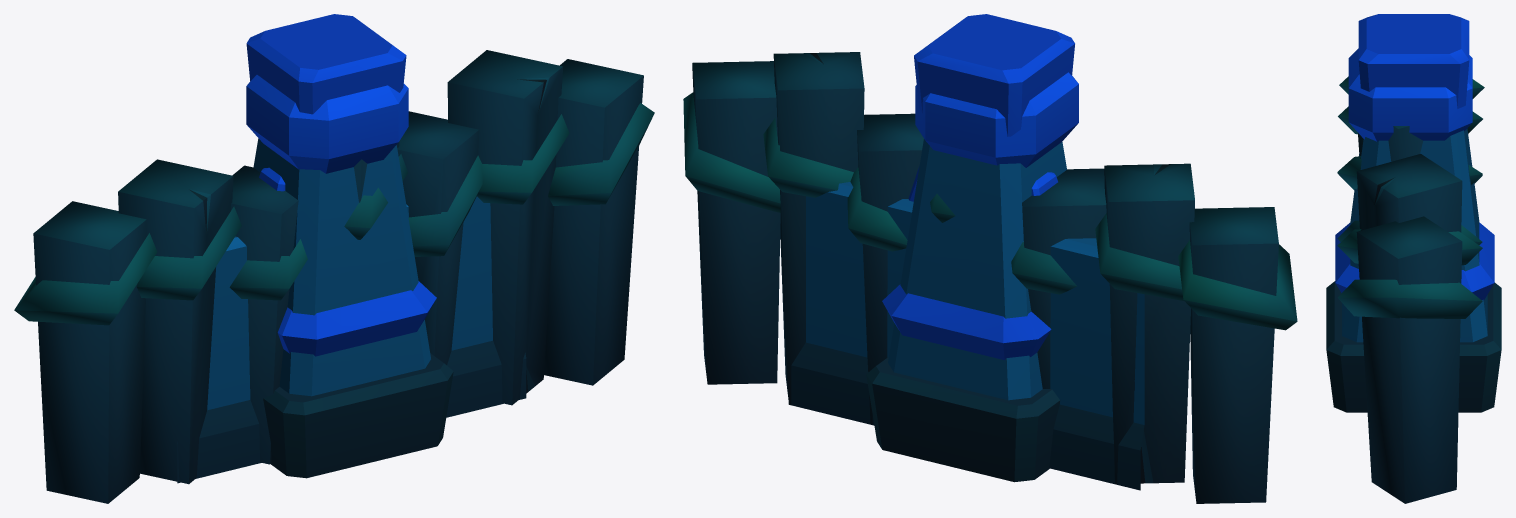
File: Walls.fbx
3 views of the same model, side by side, from view 1: azimuth 30°, elevation 25°; view 2: azimuth 150°, elevation 25°; view 3: azimuth 270°, elevation 25° (orthographic). The views are drawn at different scales.
Visible parts, largest first — view 1: Wall_1_W, Wall_1_Pillar, Wall_2_W, Wall_2_Pillar; view 2: Wall_1_W, Wall_1_Pillar, Wall_2_W, Wall_2_Pillar; view 3: Wall_1_W, Wall_1_Pillar, Wall_2_Pillar.
Boxes of the visible parts, x1=… form: Wall_1_W: x1=14, y1=50, x2=654, y2=503; Wall_1_Pillar: x1=246, y1=14, x2=453, y2=478; Wall_2_W: x1=177, y1=167, x2=526, y2=483; Wall_2_Pillar: x1=246, y1=75, x2=408, y2=173; Wall_1_W: x1=683, y1=52, x2=1297, y2=503; Wall_1_Pillar: x1=866, y1=14, x2=1074, y2=482; Wall_2_W: x1=788, y1=166, x2=1144, y2=490; Wall_2_Pillar: x1=915, y1=72, x2=1078, y2=167; Wall_1_W: x1=1337, y1=76, x2=1484, y2=503; Wall_1_Pillar: x1=1326, y1=14, x2=1501, y2=412; Wall_2_Pillar: x1=1348, y1=48, x2=1472, y2=141.
Size of the model in its own units: 1.96 by 1.16 by 0.5348.
